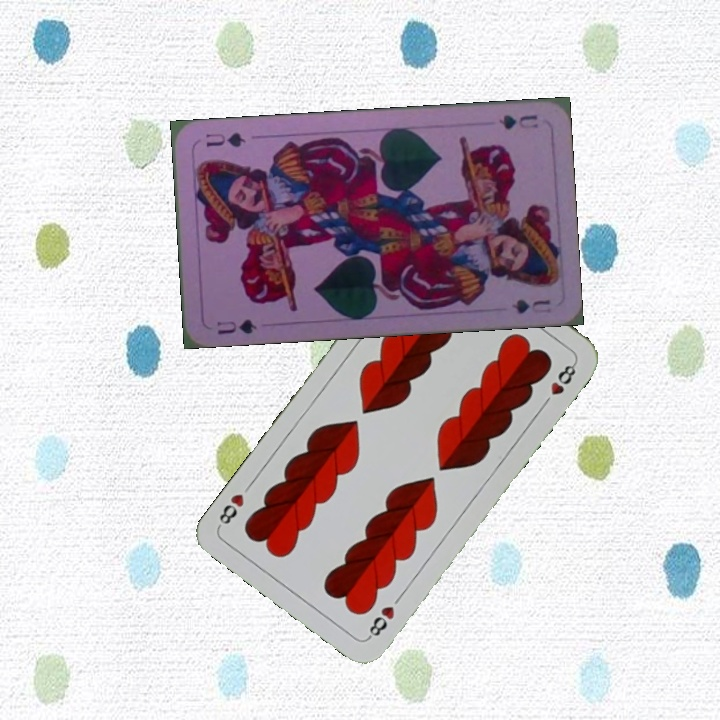GU: (212, 314, 260, 337), (494, 110, 541, 132)
H8: (364, 602, 398, 642)
